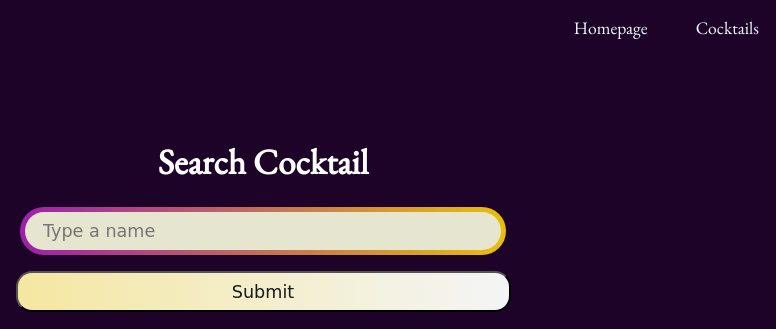
Search page › Navigate to homepage
Step 1. Click the link to "/" → point(611, 28), box [574,16,648,39]
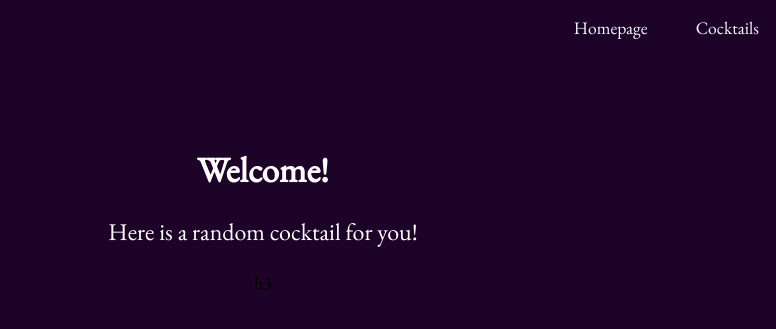
Expected: the heading with id "top-section" reads "Welcome!", [197,147,329,192]
